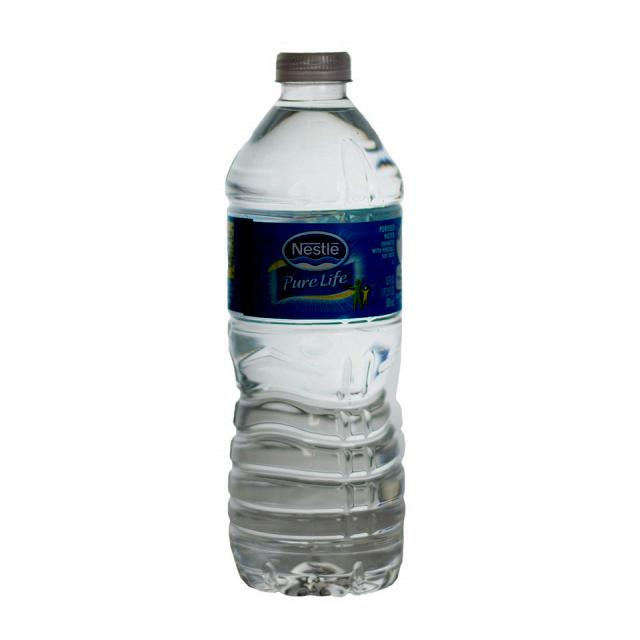full-bottle: (222, 49, 409, 599)
